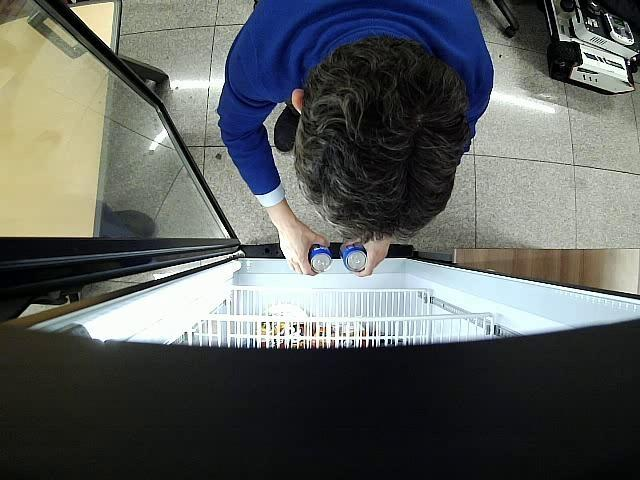13_pocariSweat: (341, 244, 367, 271), (308, 244, 333, 272)
